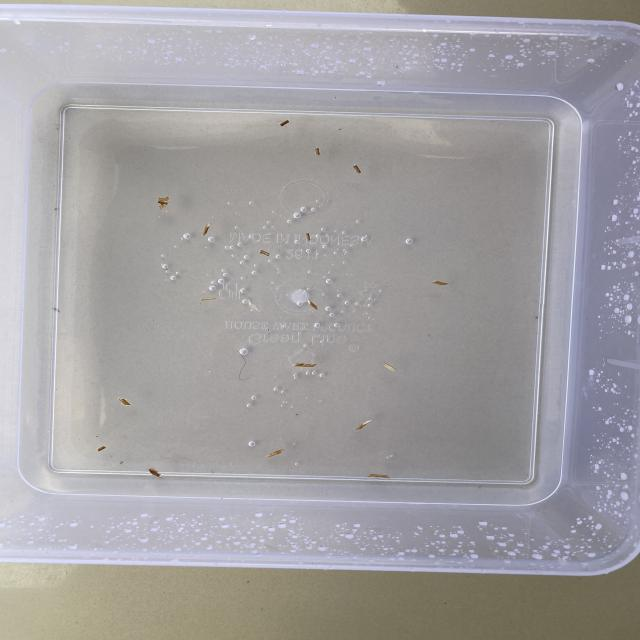Wereng: (261, 446, 287, 458), (112, 398, 135, 409), (355, 417, 375, 429), (276, 115, 290, 128), (202, 220, 212, 238), (308, 299, 320, 313), (364, 472, 392, 478), (381, 361, 396, 372), (159, 196, 171, 209), (292, 362, 318, 368), (352, 164, 363, 176), (148, 467, 160, 478), (432, 280, 448, 288), (260, 248, 272, 258), (198, 296, 218, 302), (95, 444, 109, 452), (314, 146, 322, 158), (303, 234, 314, 242)
